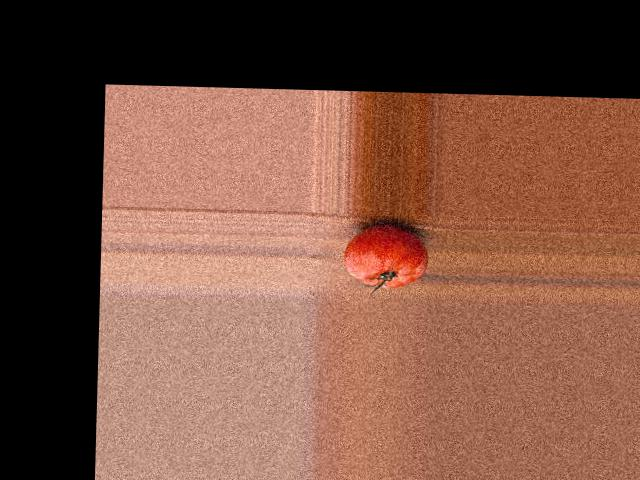tomato: (342, 223, 428, 289)
